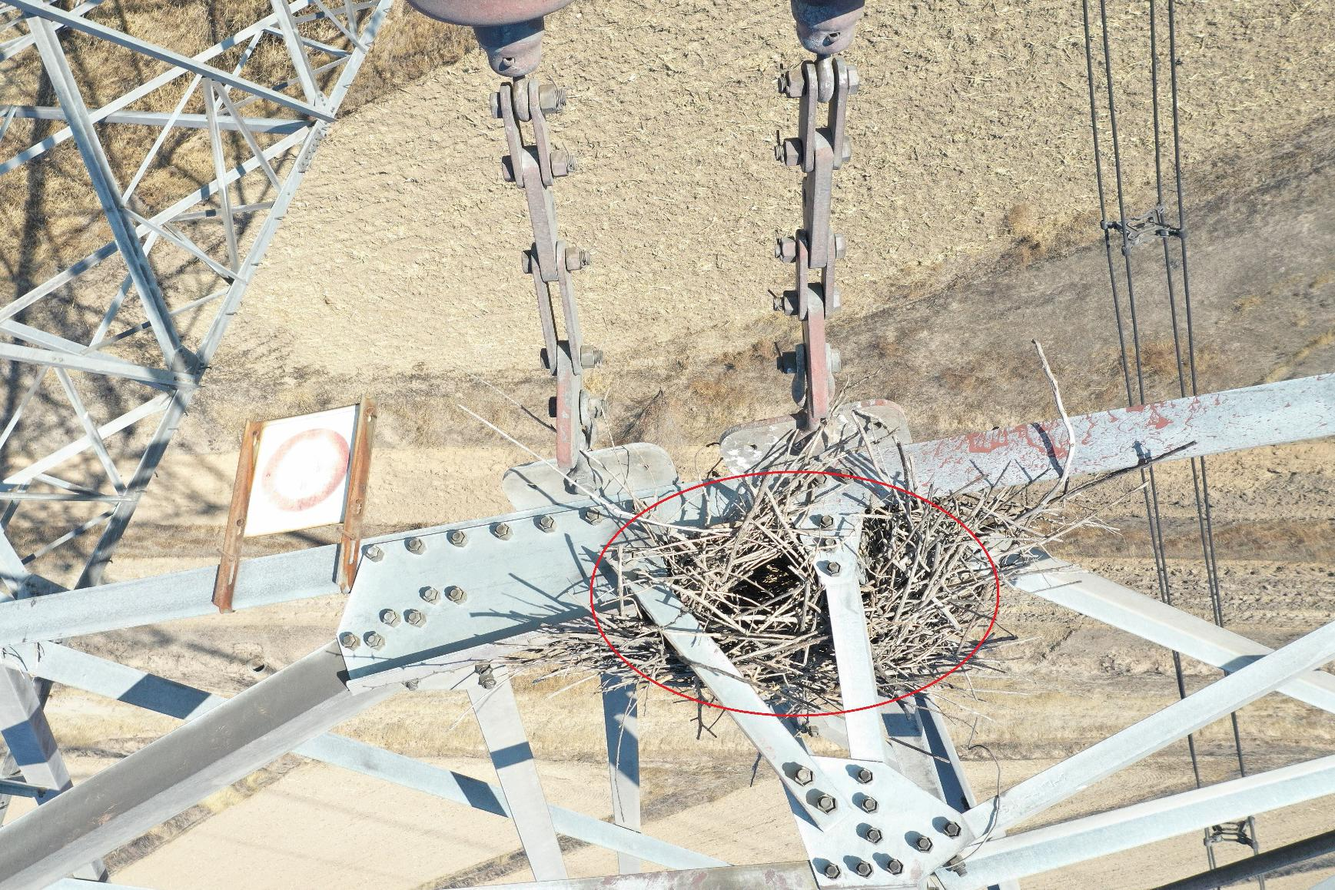nest: (506, 396, 1055, 719)
